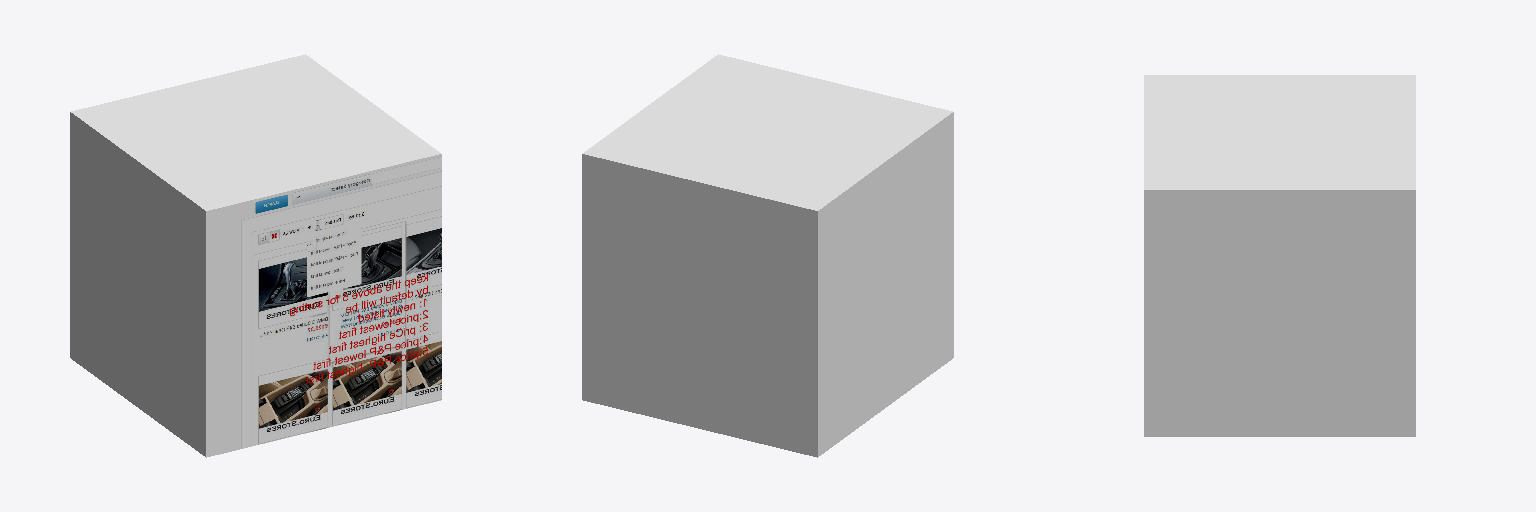
3 renders of one model, left to right at view 1: azimuth 30°, elevation 25°; view 2: azimuth 150°, elevation 25°; view 3: azimuth 270°, elevation 25°, orthographic.
Visible parts, largest first — view 1: Cube; view 2: Cube; view 3: Cube.
Boxes of the visible parts, box(x1,y1,x2,y2) form: Cube: box(70, 54, 441, 457); Cube: box(582, 54, 953, 457); Cube: box(1144, 75, 1415, 436).
Size of the model in its own units: 2 by 2 by 2.
Materials: 2 (1 with a texture image).